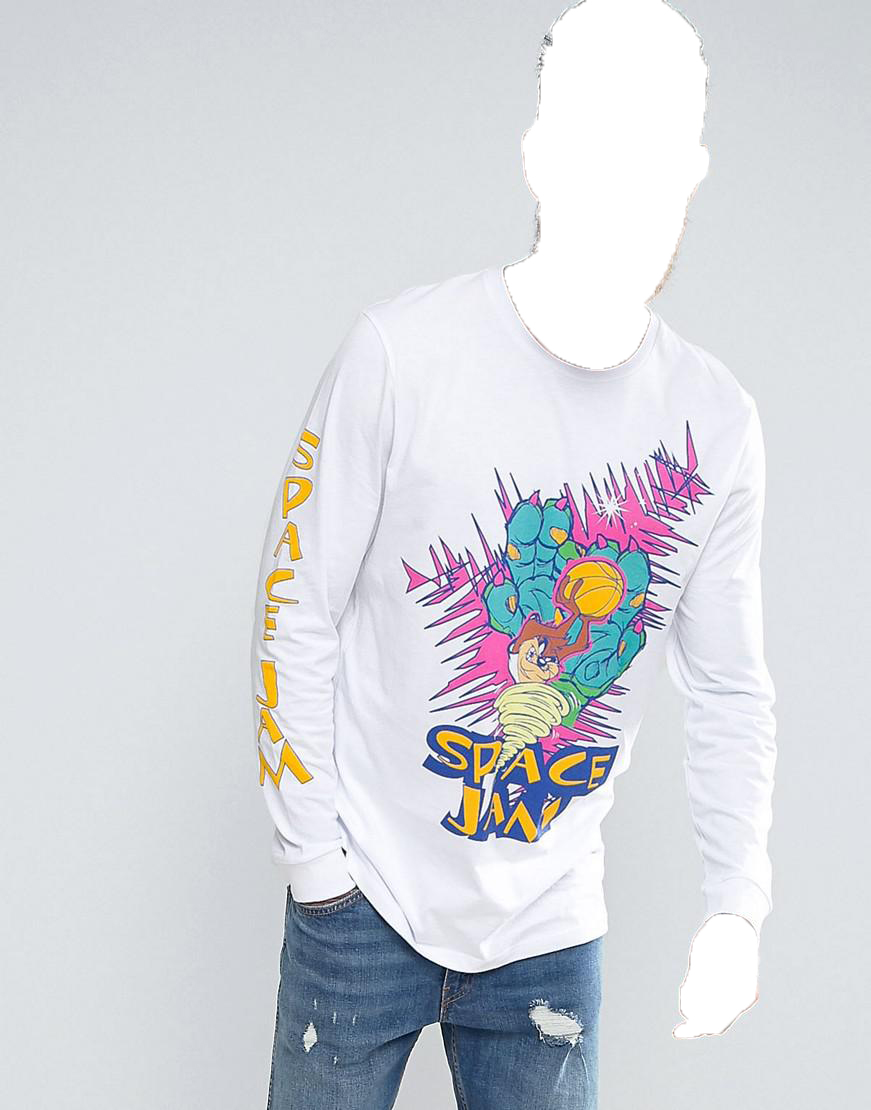teeshirt: (242, 261, 798, 961)
